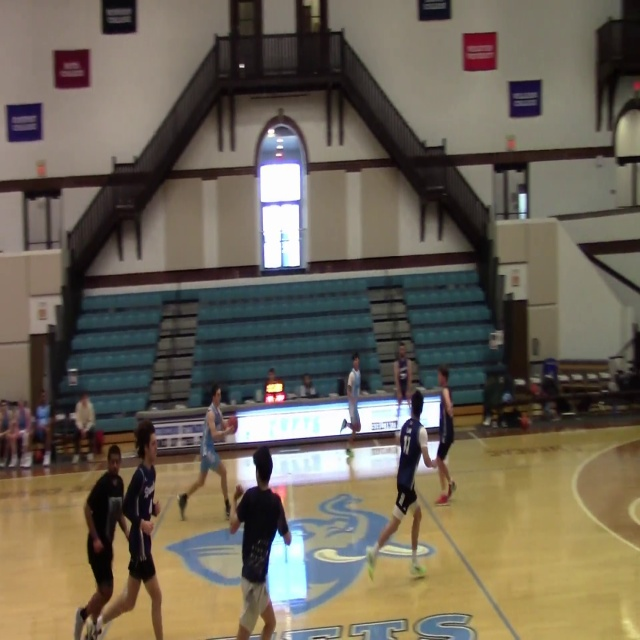Basketball: (227, 416, 238, 433), (235, 485, 243, 497)
